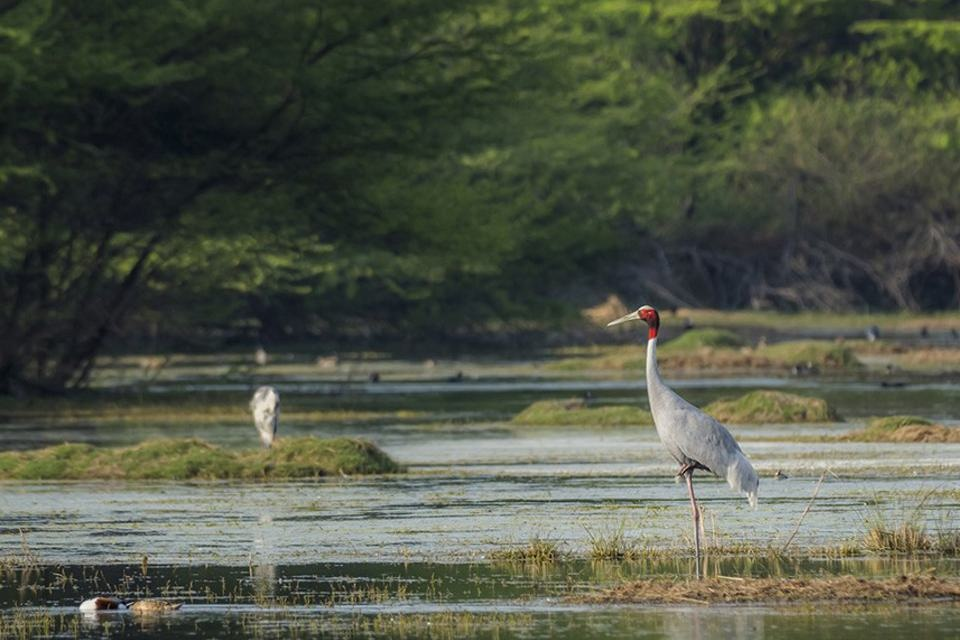crane: (594, 295, 783, 582)
